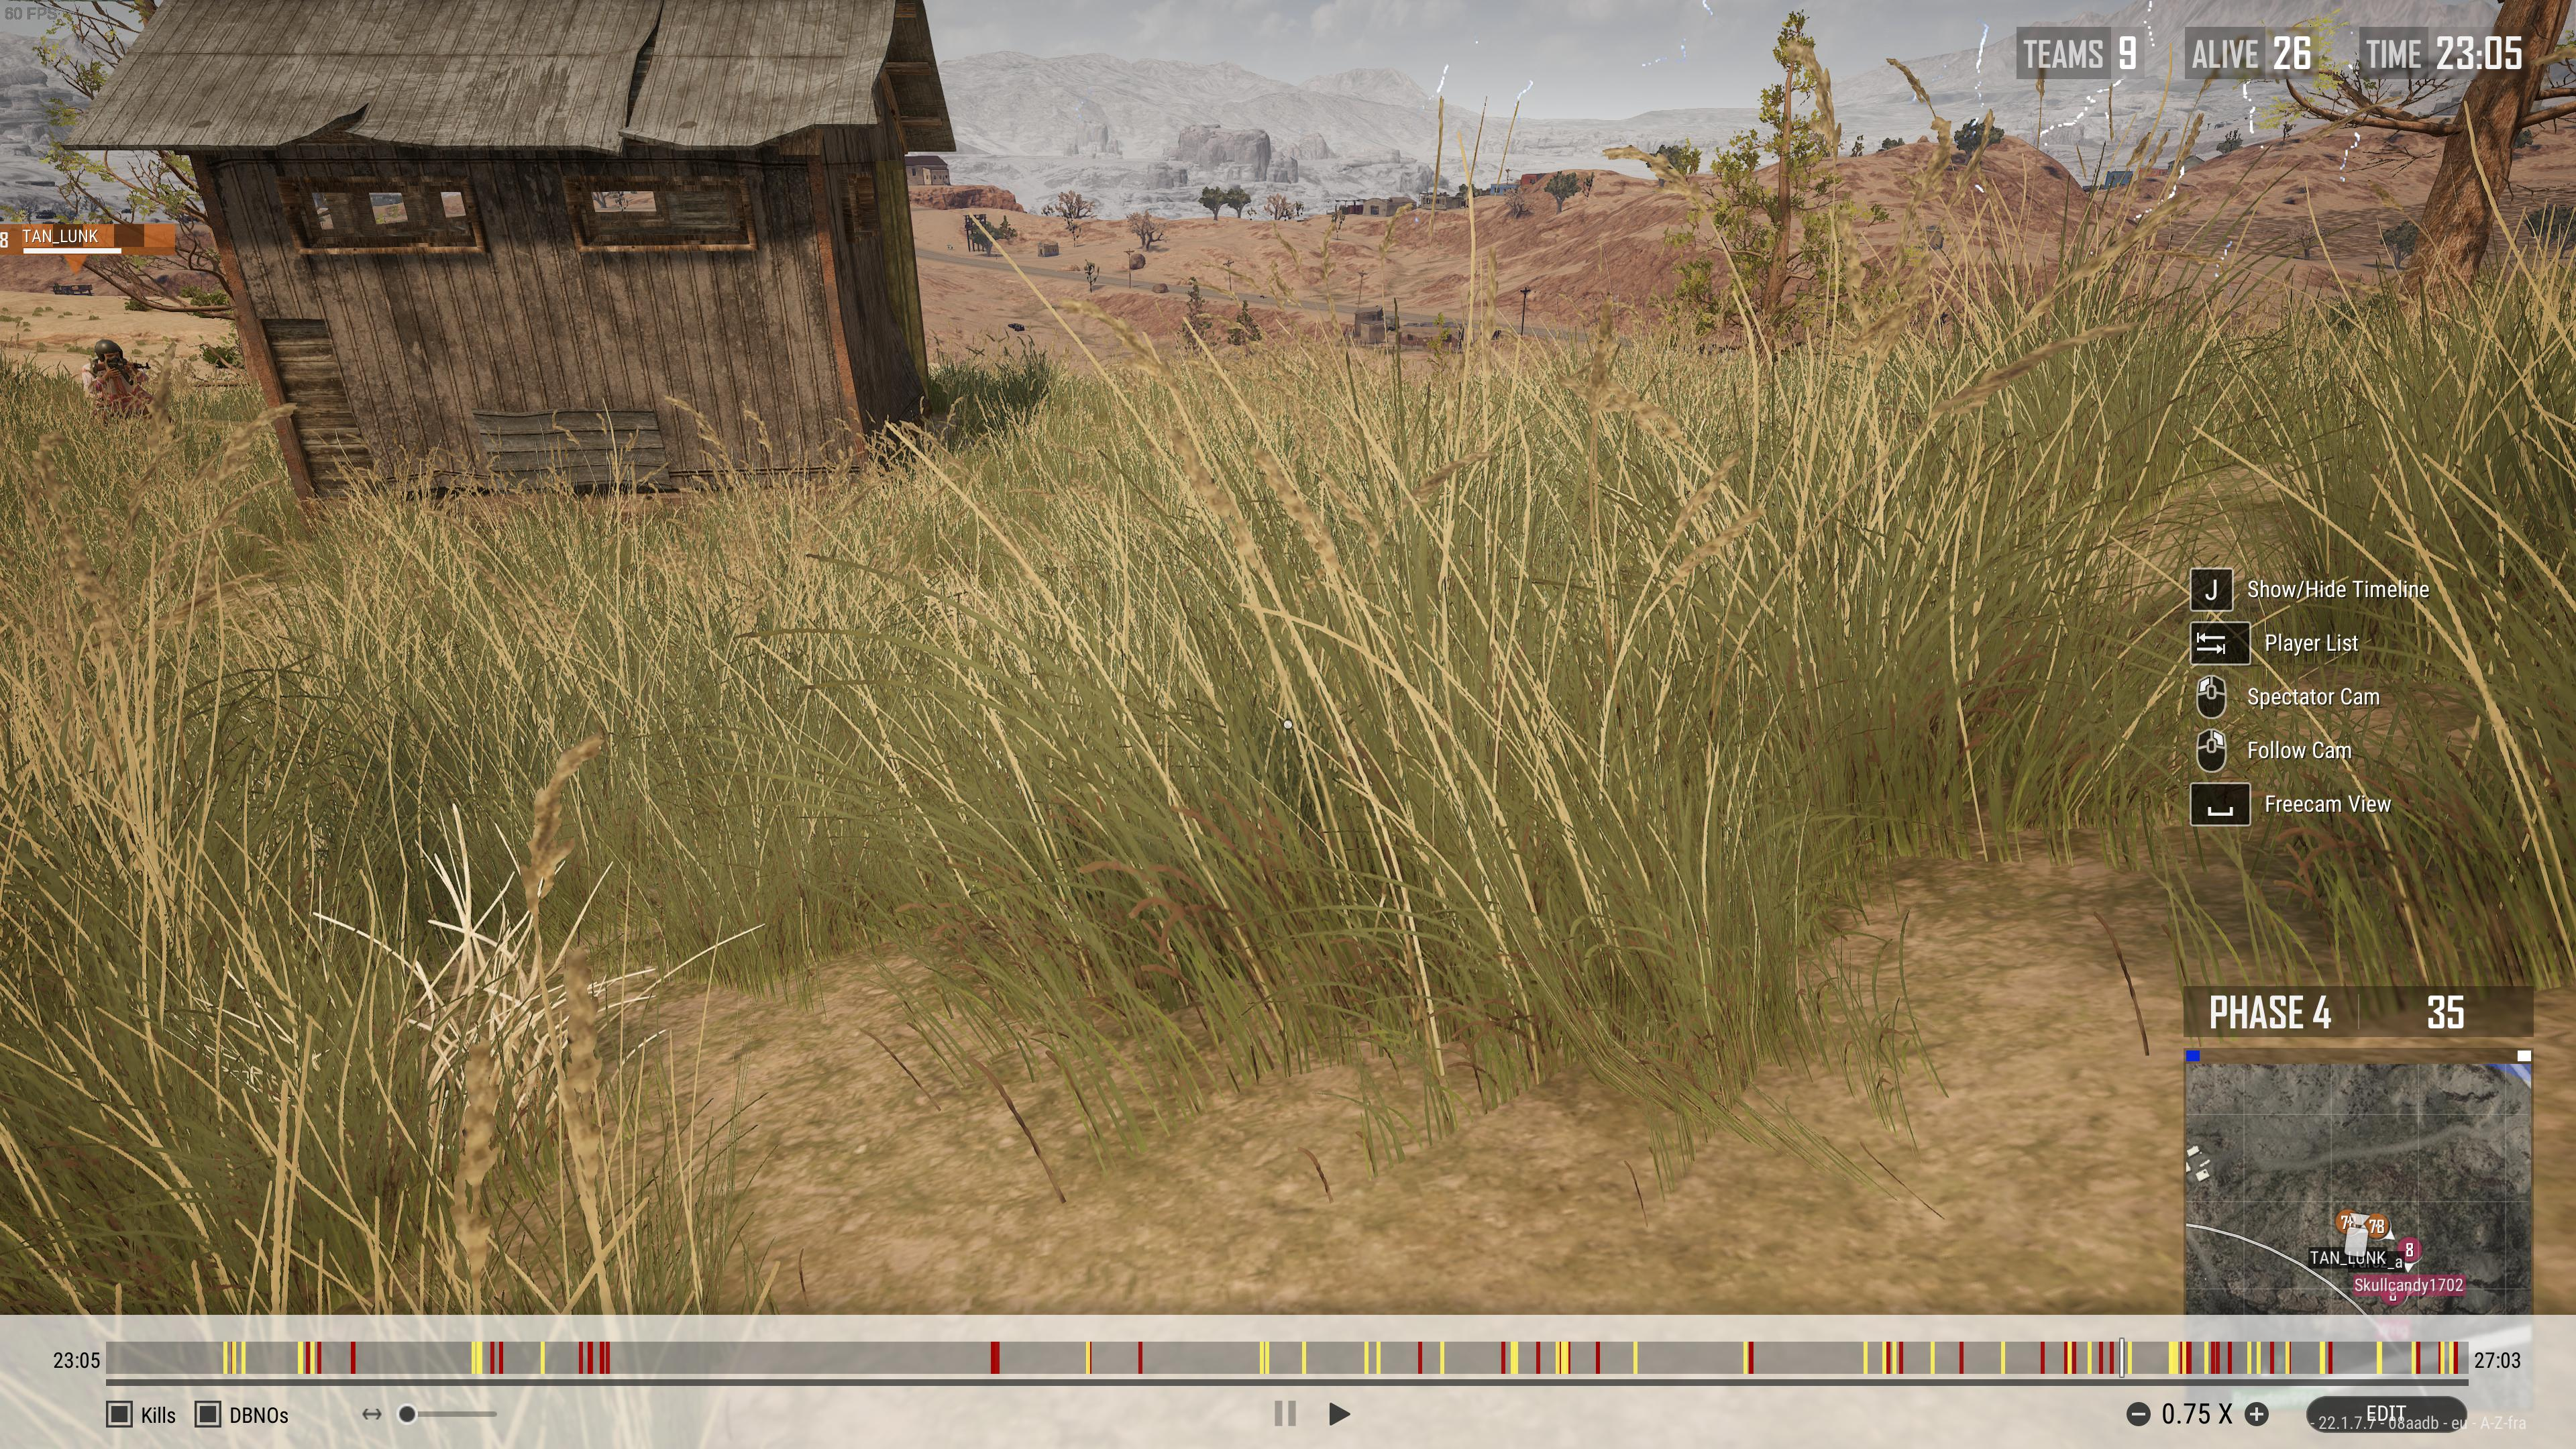enemy: (81, 338, 177, 439)
enemy_head: (94, 338, 122, 366)
